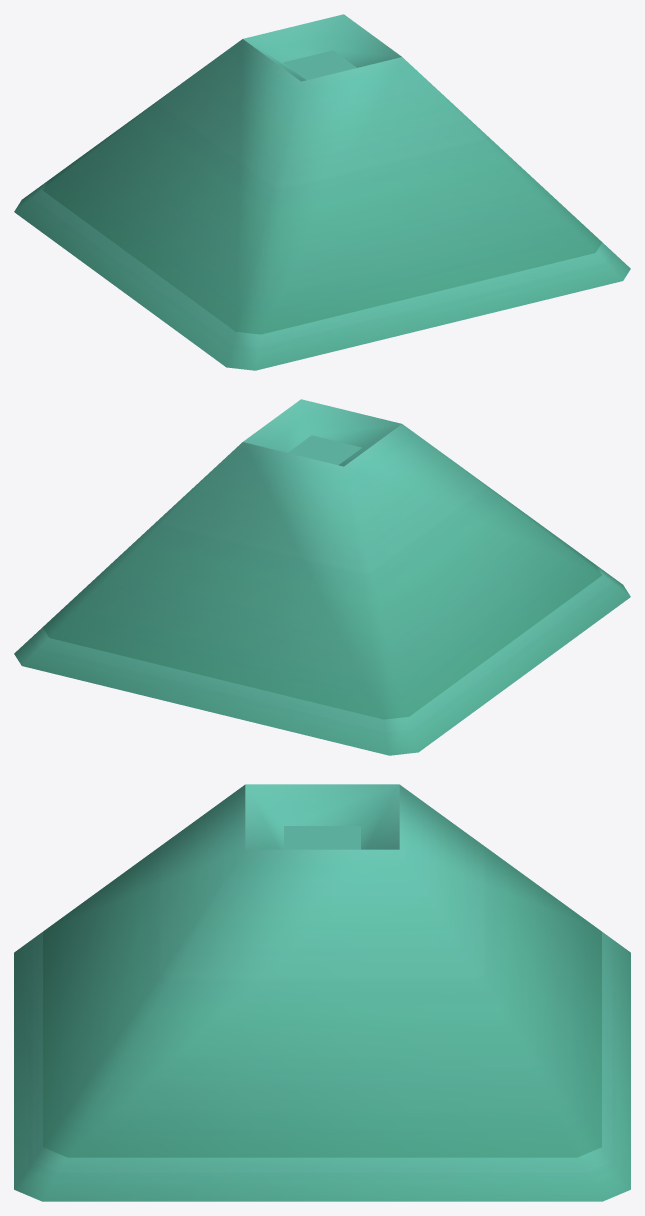
Rendered from roof-point.glb.
3 views of the same model, one above another, from view 1: azimuth 30°, elevation 25°; view 2: azimuth 150°, elevation 25°; view 3: azimuth 270°, elevation 25° (orthographic). The views are drawn at different scales.
Visible parts, largest first — view 1: roof-point; view 2: roof-point; view 3: roof-point.
Part boxes in pixels (x1,y1,x2,y2): roof-point: [14, 14, 630, 370]; roof-point: [14, 399, 630, 755]; roof-point: [14, 784, 630, 1201].
Bounding box in the file's own units: 1.1 × 0.5 × 1.1.
Materials: 1 (1 with a texture image).
